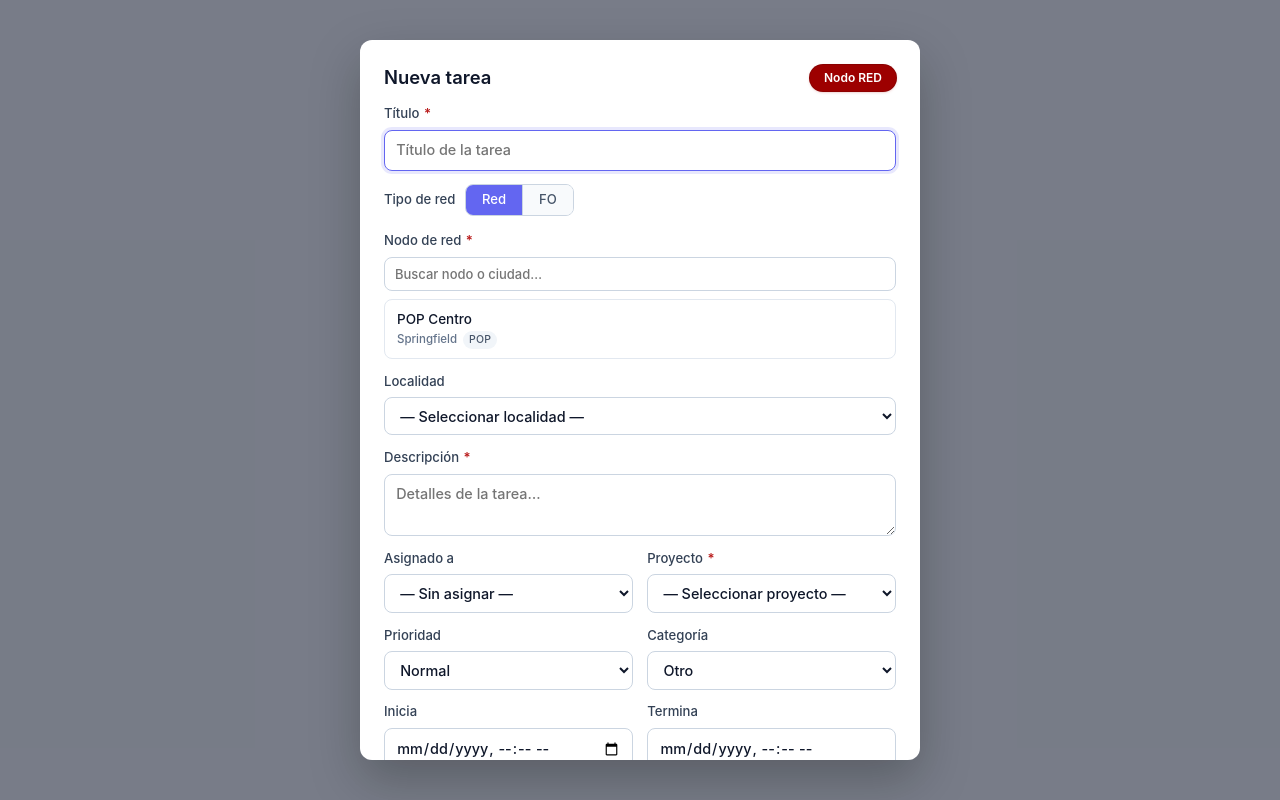
Test: CreateTaskModal address required in network mode (REQ-53) › enables "Crear tarea" when node is selected and address is non-blank
Step 1. Type "Tarea nodo" into the field with placeholder "Título de la tarea" → (640, 150), box [384, 130, 896, 171]
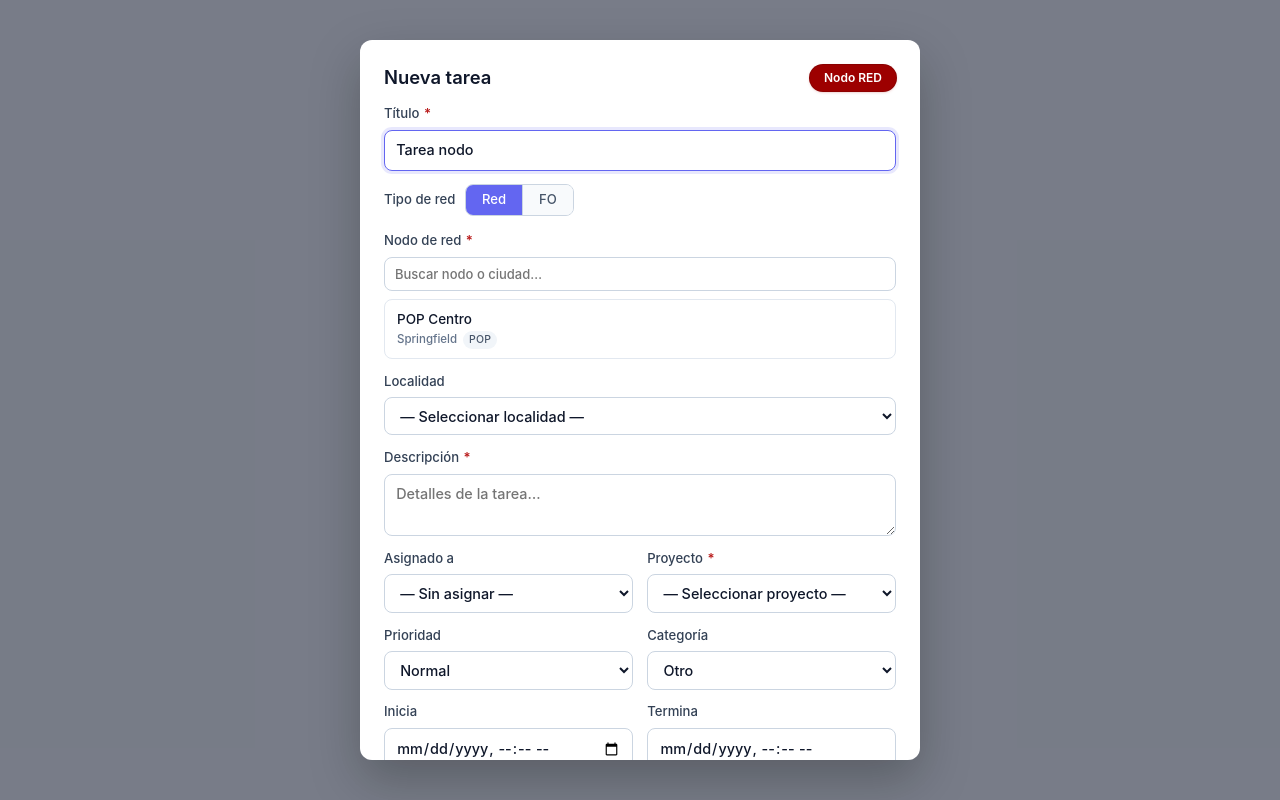
Step 2. Type "Descripción" into the text box with placeholder "Detalles de la tarea…" → (640, 505), box [384, 474, 896, 536]
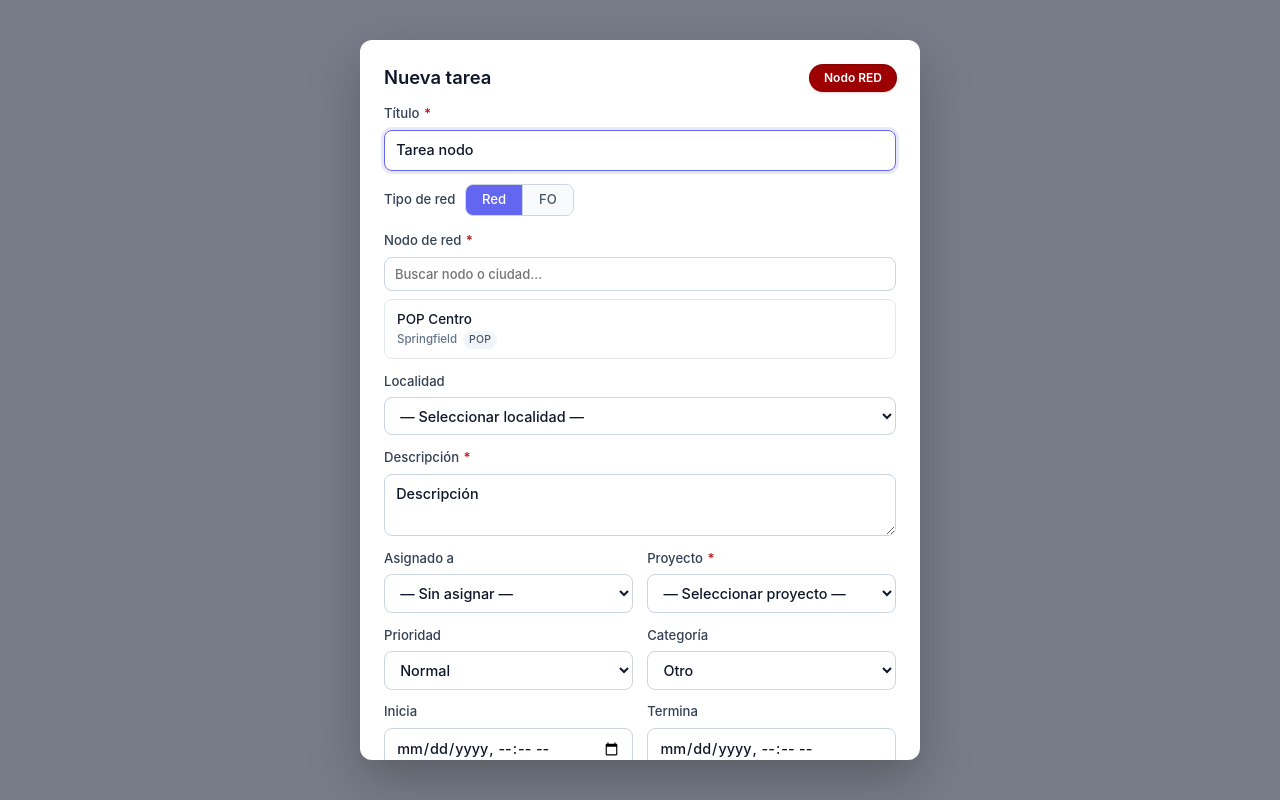
Step 3. Select "RED - FIBRA" in the dropdown labelled "Proyecto *" → (772, 594), box [647, 574, 896, 613]
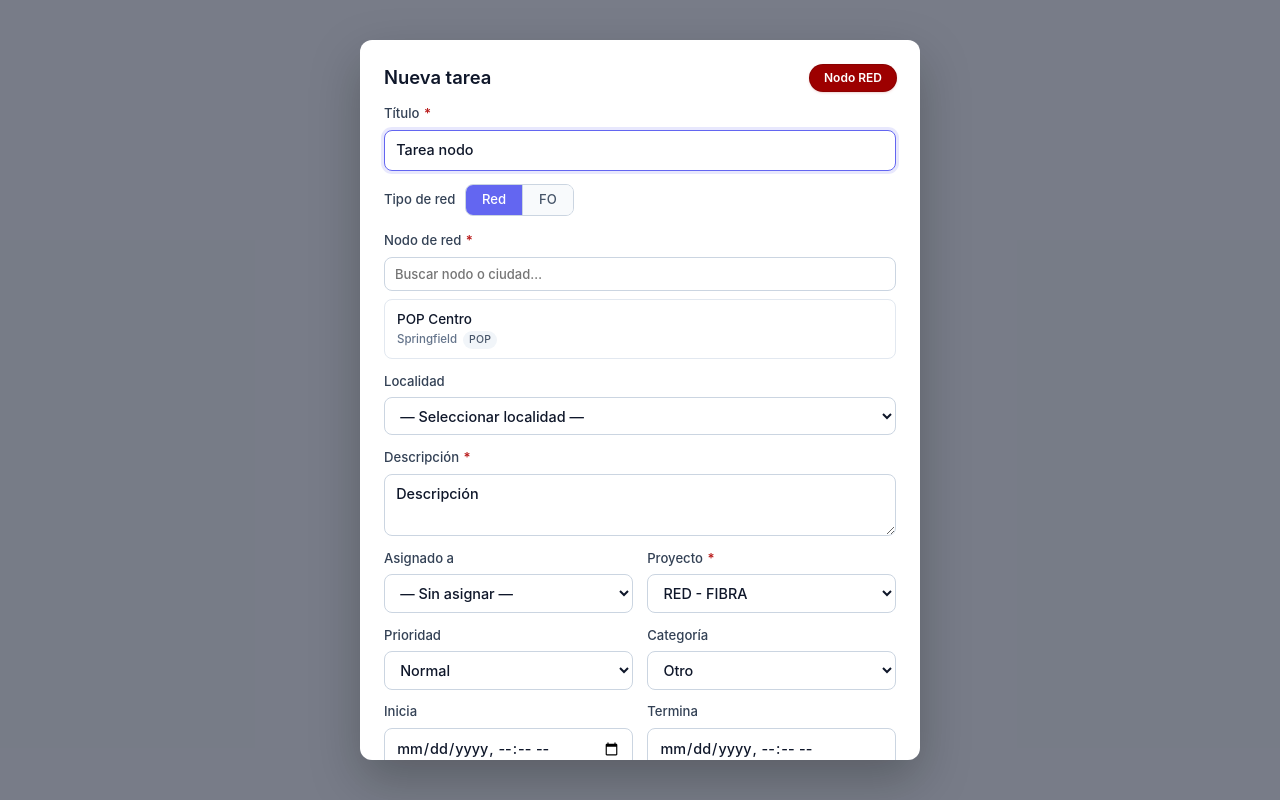
Step 4. Click the text "POP Centro" → click(434, 319), box [397, 311, 472, 327]
(page scrolled)
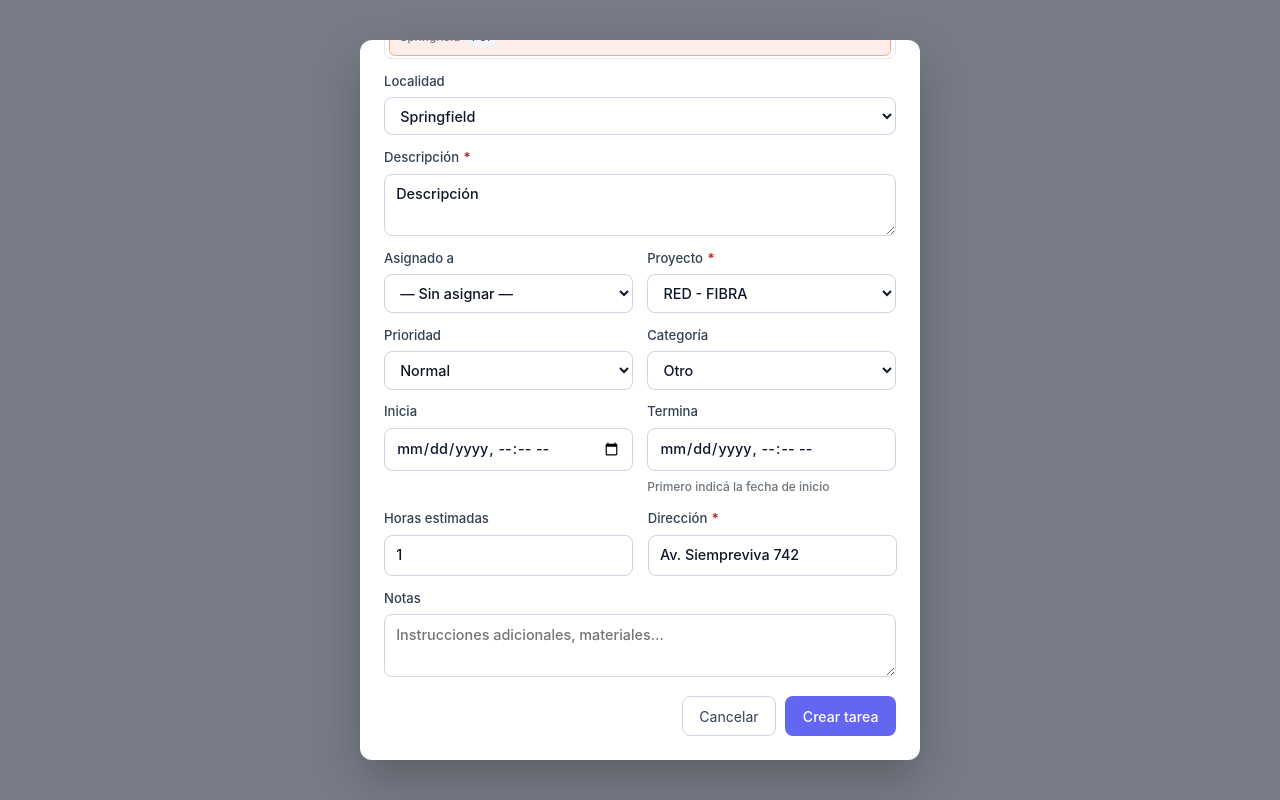
Check: the field with placeholder "Dirección del trabajo" holds "Av. Siempreviva 742", box [648, 535, 897, 576]
Check: the button "Crear tarea" is enabled, box [785, 696, 896, 736]
